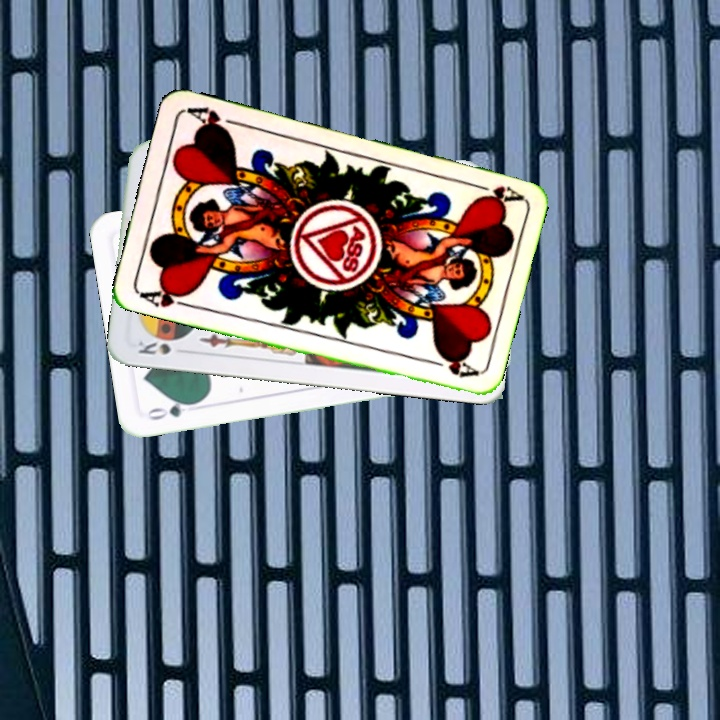GO: (142, 397, 201, 423)
HA: (136, 281, 195, 310), (465, 178, 523, 207)
SK: (134, 335, 174, 358)
